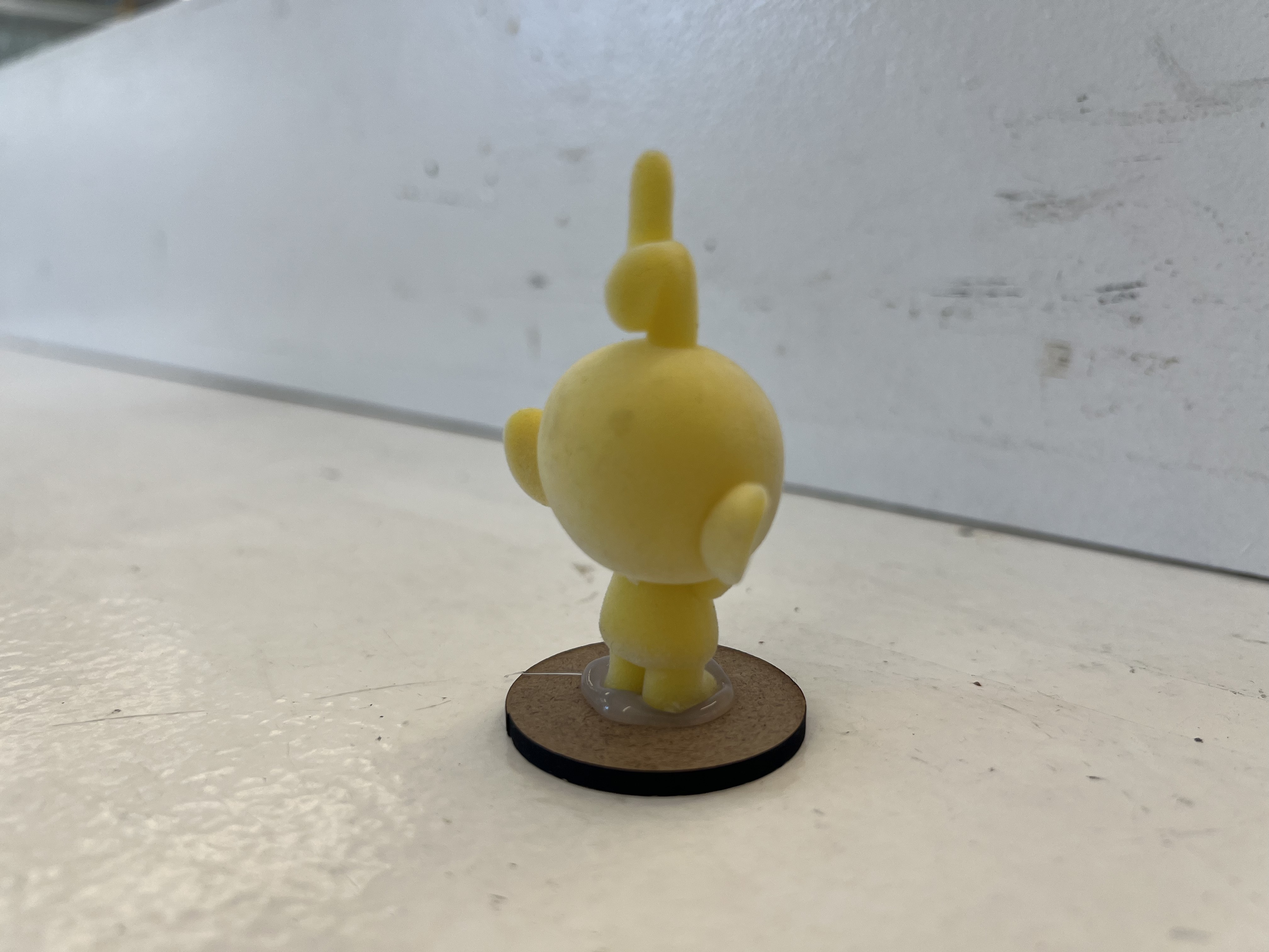teletubby: (504, 151, 783, 716)
